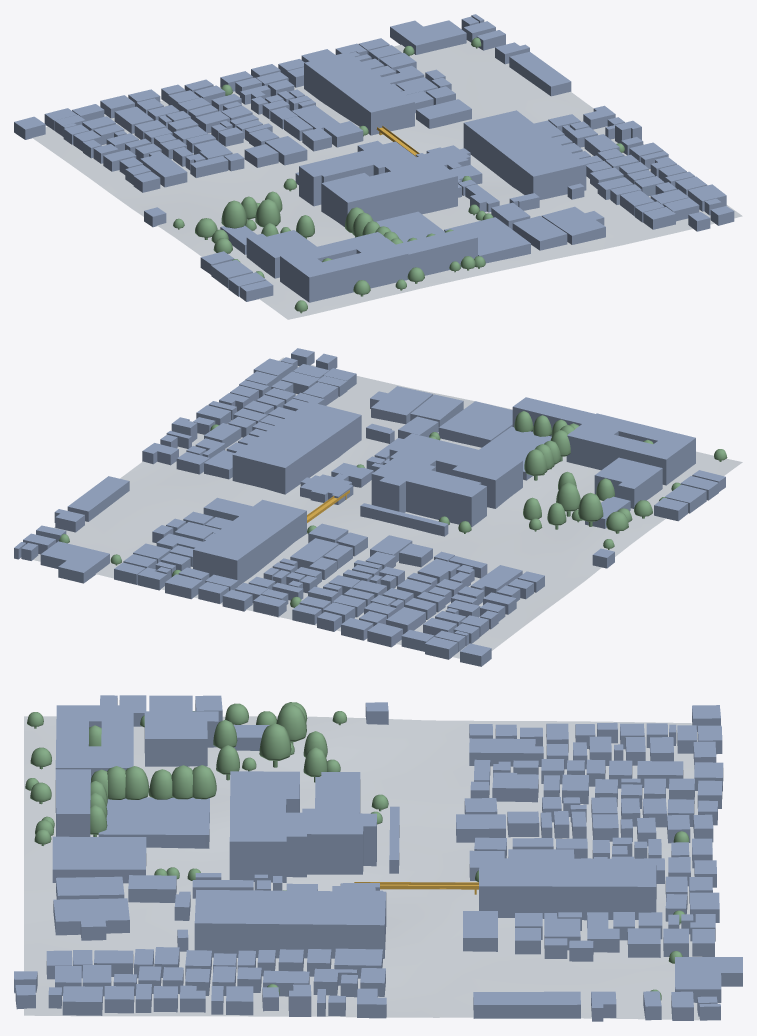
The model's file is CAMPUS.glb.
3 renders of one model, top to bottom at view 1: azimuth 30°, elevation 25°; view 2: azimuth 150°, elevation 25°; view 3: azimuth 270°, elevation 25°, orthographic. The views are drawn at different scales.
Parts seen in each view (by area): view 1: AREA_BUILDINGS, AREA_GROUND, AREA_TREES; view 2: AREA_BUILDINGS, AREA_GROUND, AREA_TREES; view 3: AREA_BUILDINGS, AREA_GROUND, AREA_TREES, OVERPASS.
Boxes of the visible parts, bbox=[...] form: AREA_BUILDINGS: bbox=[14, 14, 734, 302]; AREA_GROUND: bbox=[32, 40, 742, 319]; AREA_TREES: bbox=[173, 37, 624, 313]; AREA_BUILDINGS: bbox=[14, 348, 725, 666]; AREA_GROUND: bbox=[33, 357, 742, 658]; AREA_TREES: bbox=[59, 411, 727, 607]; AREA_BUILDINGS: bbox=[14, 695, 742, 1021]; AREA_GROUND: bbox=[24, 716, 712, 1020]; AREA_TREES: bbox=[25, 702, 689, 1000]; OVERPASS: bbox=[354, 882, 478, 894].
Size of the model in its own units: 282 by 25.47 by 289.
